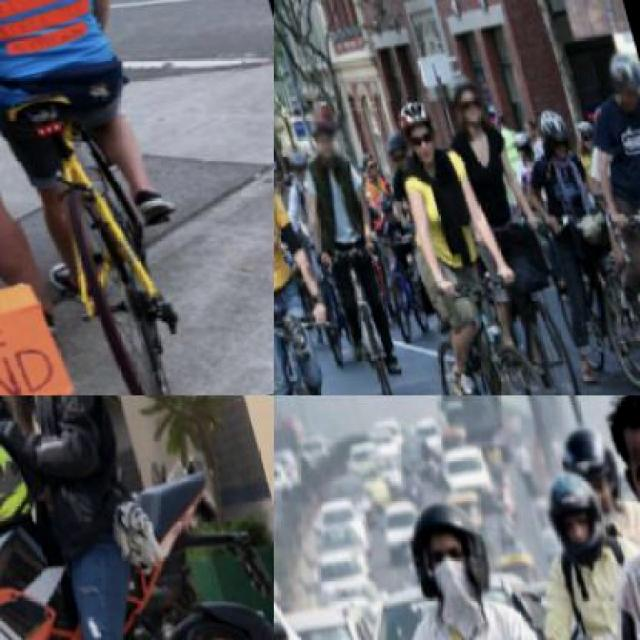With Helmet: (394, 482, 500, 615), (552, 410, 634, 525), (534, 455, 614, 563), (386, 89, 451, 177), (528, 94, 578, 164), (442, 66, 493, 132), (602, 38, 638, 116), (304, 101, 344, 170), (380, 122, 417, 173), (571, 108, 603, 157), (284, 142, 313, 183)
